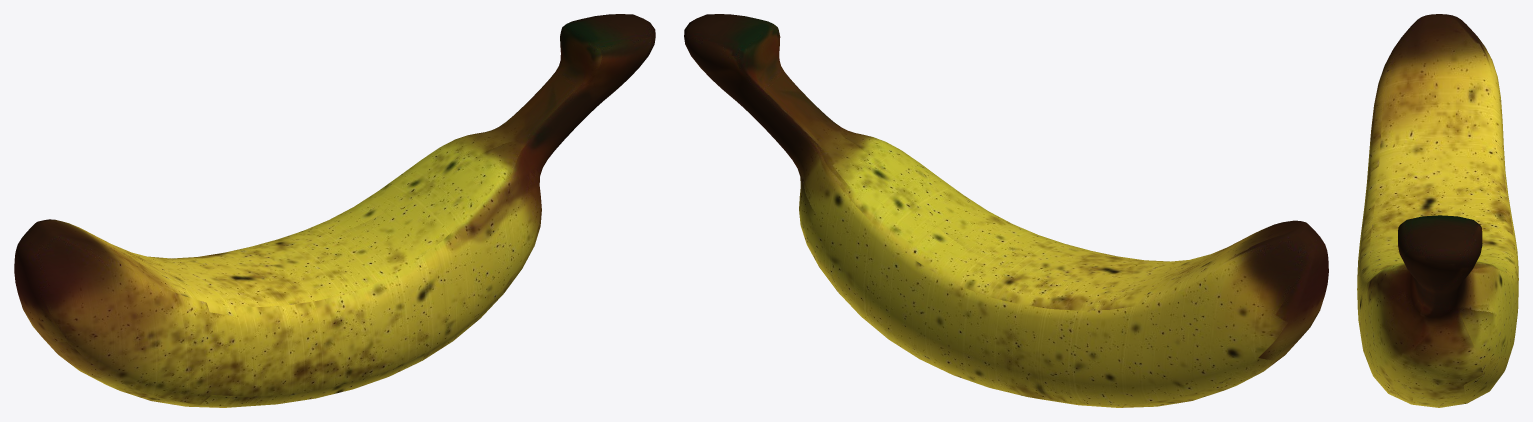
Rendered from banana.gltf.
The picture shows the model from 3 angles, left to right: view 1: azimuth 30°, elevation 25°; view 2: azimuth 150°, elevation 25°; view 3: azimuth 270°, elevation 25°; orthographic projection.
Visible parts, largest first — view 1: Cube; view 2: Cube; view 3: Cube.
Boxes of the visible parts, bbox=[...] form: Cube: bbox=[14, 14, 655, 407]; Cube: bbox=[684, 14, 1328, 407]; Cube: bbox=[1357, 14, 1518, 407].
Size of the model in its own units: 11.21 by 4.92 by 2.47.
Materials: 1 (1 with a texture image).
